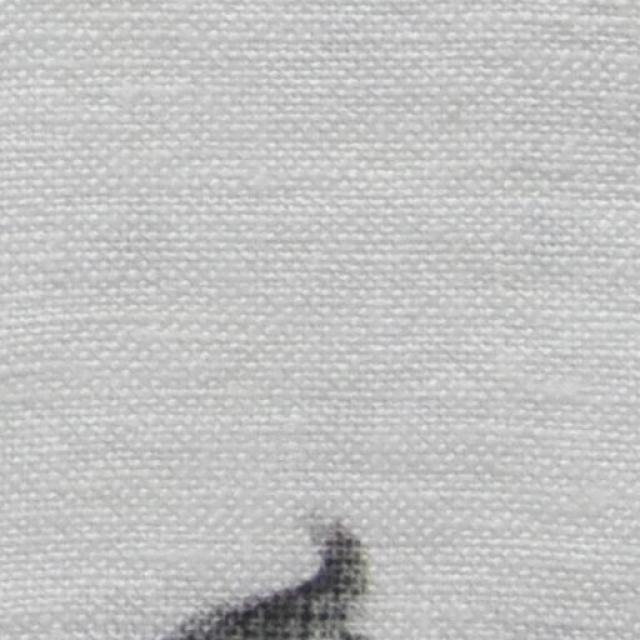Stain: (164, 525, 368, 639)
